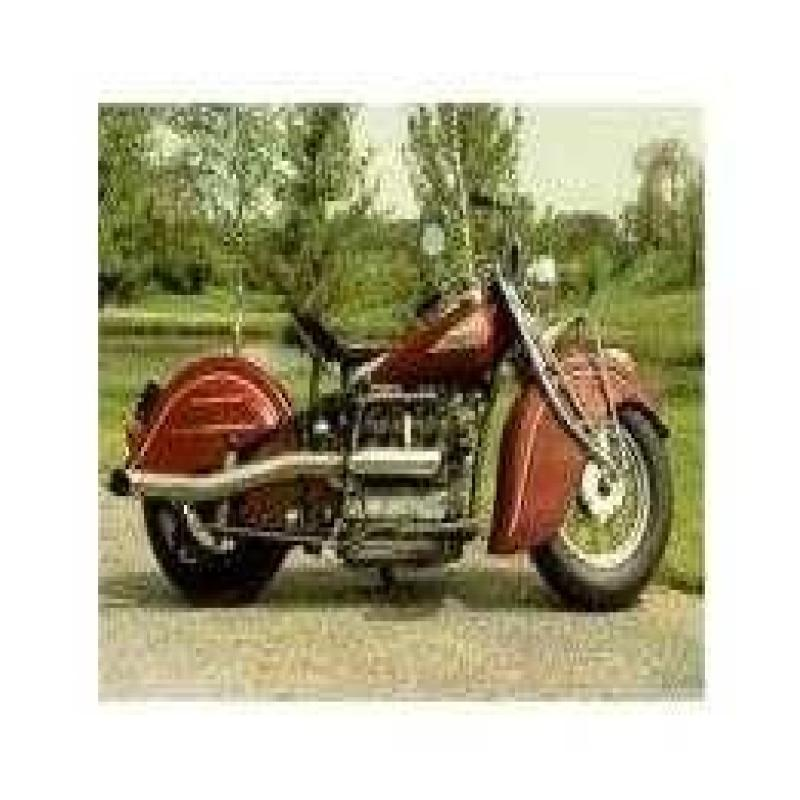bike: (117, 141, 702, 638)
